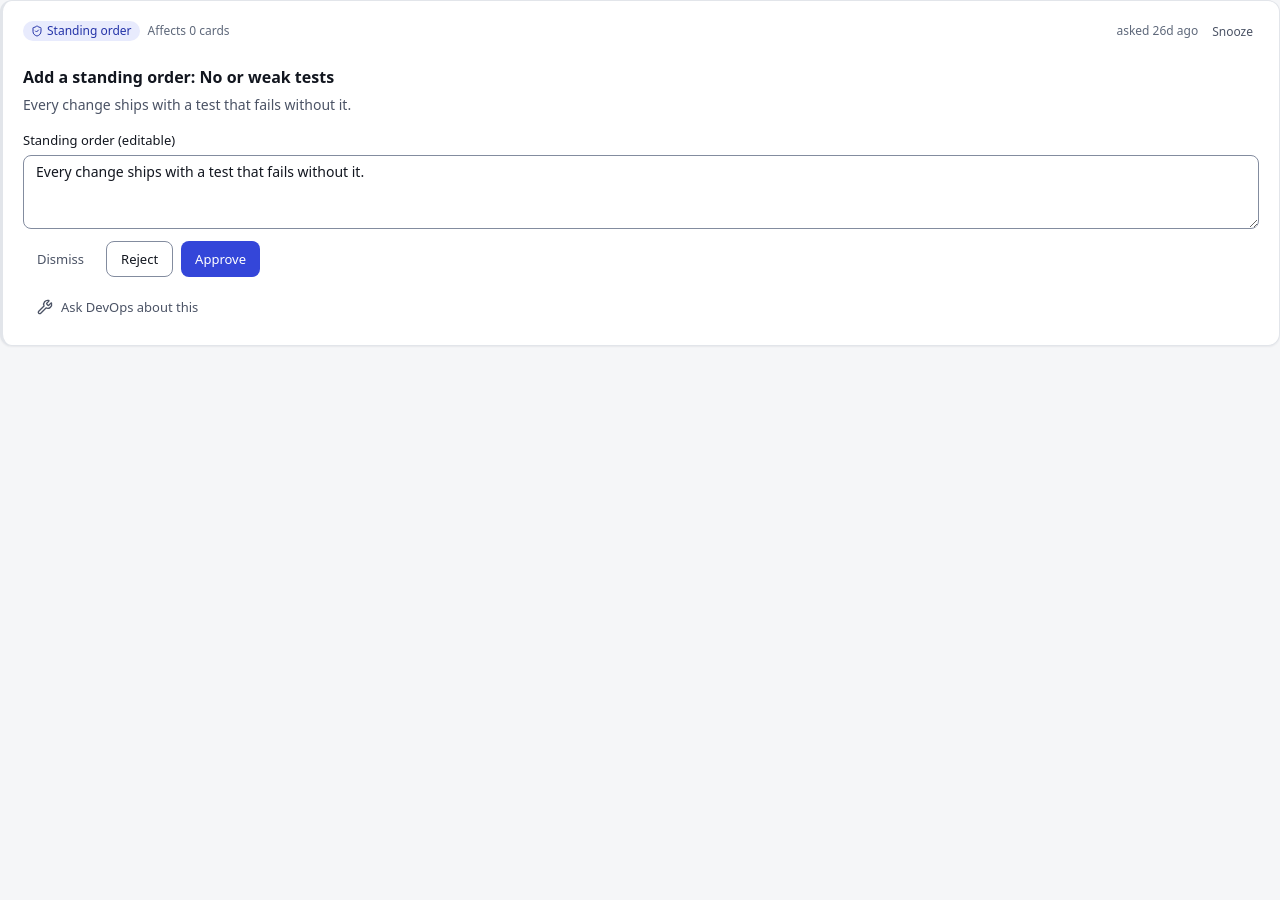
Test: a standing-order proposal on desktop › any other failure of Approve is shown too
What coordinates should you click on to do the following:
click the button with test id "desk-approve"
I would click on:
 (221, 259)
Its box is x1=181 y1=241 x2=260 y2=277.
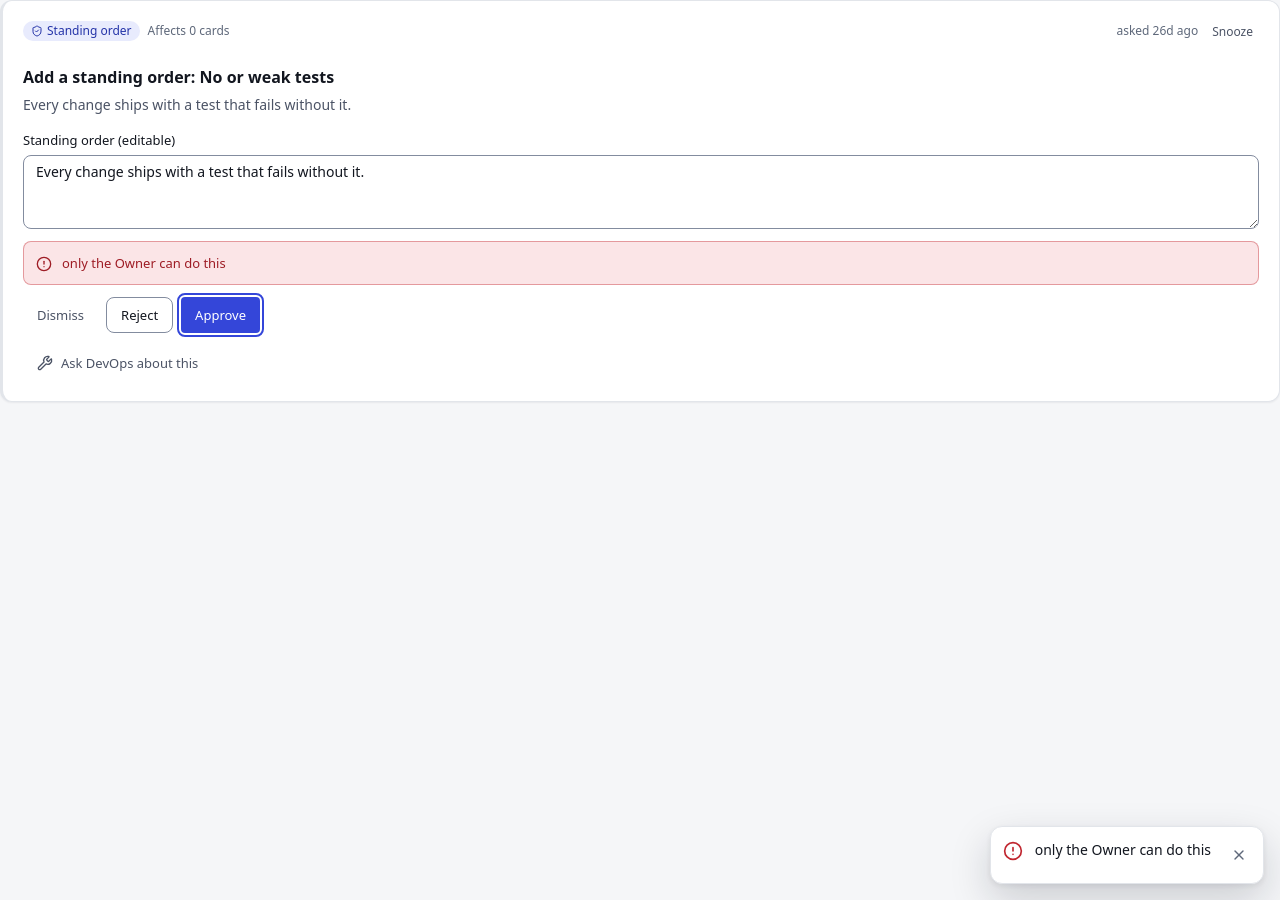
Check: the text "only the Owner can do this" below "Standing order (editable)" is shown, box x1=62 y1=254 x2=226 y2=272
